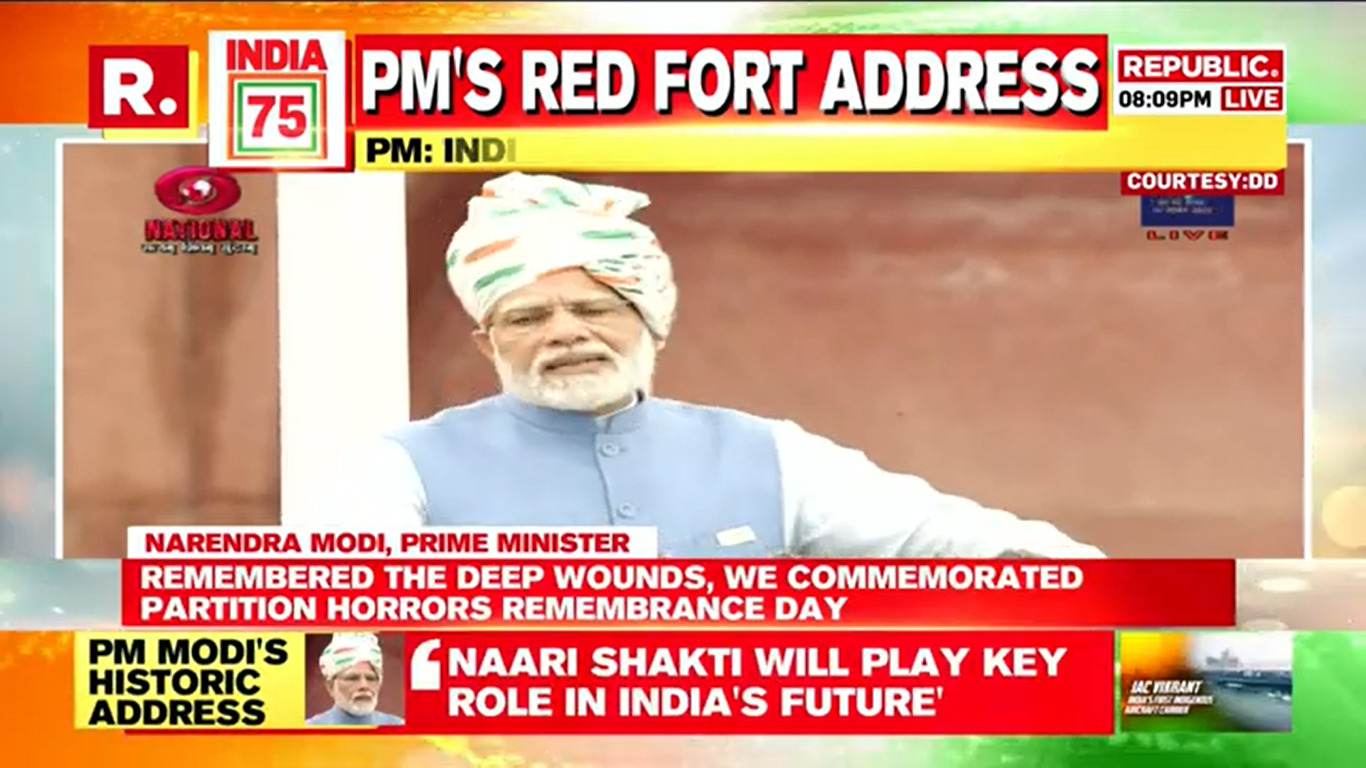Indi75: (206, 24, 352, 166)
person: (386, 187, 1039, 548)
